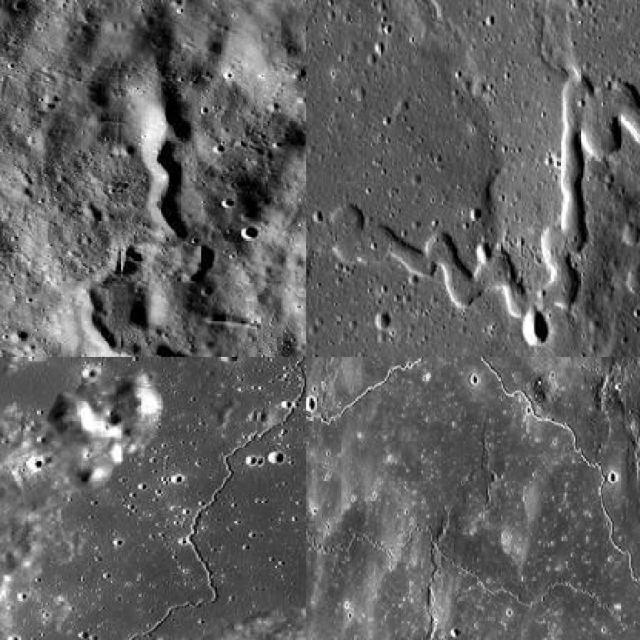rille: (306, 74, 639, 331), (20, 357, 305, 638), (306, 357, 639, 586), (73, 14, 250, 355), (306, 522, 639, 638)
